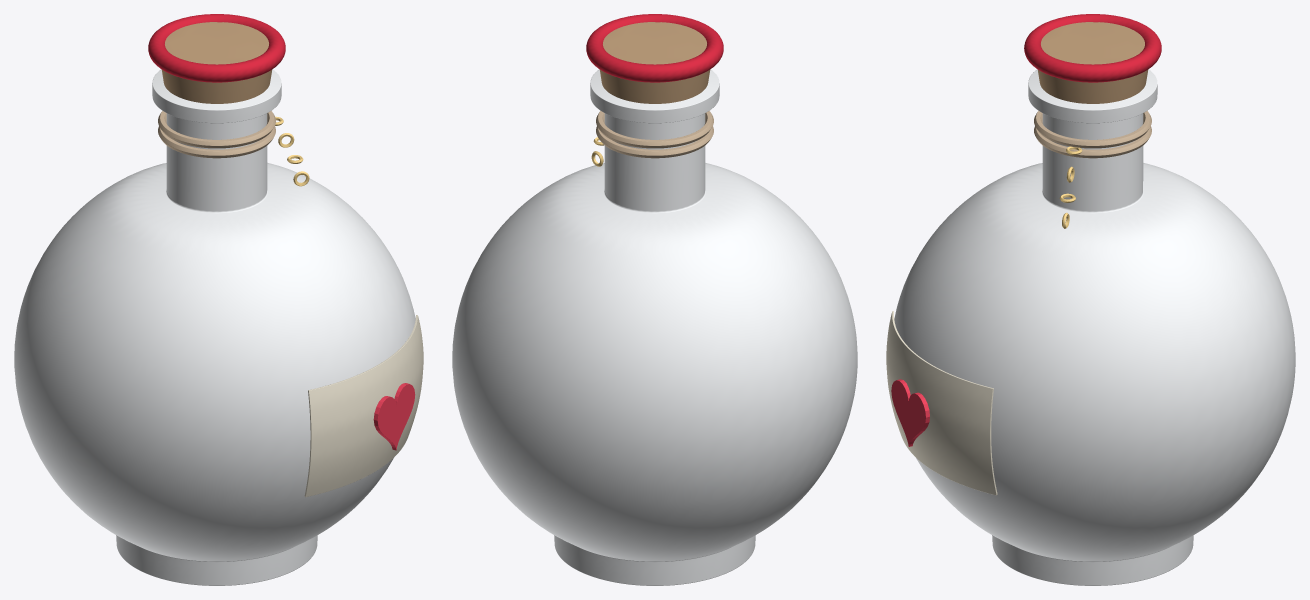
Rendered from healthpotion.glb.
The picture shows the model from 3 angles, left to right: view 1: azimuth 30°, elevation 25°; view 2: azimuth 150°, elevation 25°; view 3: azimuth 270°, elevation 25°; orthographic projection.
Parts seen in each view (by area): view 1: HealthPotion_Glass, HealthPotion_Label, HealthPotion_Cork, HealthPotion_WaxSeal, HealthPotion_LabelIcon, HealthPotion_String.001, HealthPotion_String; view 2: HealthPotion_Glass, HealthPotion_Cork, HealthPotion_WaxSeal, HealthPotion_String.001, HealthPotion_String; view 3: HealthPotion_Glass, HealthPotion_Label, HealthPotion_Cork, HealthPotion_WaxSeal, HealthPotion_LabelIcon, HealthPotion_String.001, HealthPotion_String.
Boxes of the visible parts, box(x1,y1,x2,y2) form: HealthPotion_Glass: box(14, 69, 415, 585); HealthPotion_Label: box(304, 315, 423, 497); HealthPotion_Cork: box(162, 22, 272, 103); HealthPotion_WaxSeal: box(148, 14, 285, 82); HealthPotion_LabelIcon: box(373, 383, 415, 450); HealthPotion_String.001: box(158, 111, 275, 148); HealthPotion_String: box(158, 126, 275, 158); HealthPotion_Glass: box(452, 69, 857, 585); HealthPotion_Cork: box(600, 22, 710, 103); HealthPotion_WaxSeal: box(586, 14, 723, 82); HealthPotion_String.001: box(596, 111, 713, 148); HealthPotion_String: box(596, 126, 713, 158); HealthPotion_Glass: box(894, 69, 1295, 585); HealthPotion_Label: box(886, 311, 997, 495); HealthPotion_Cork: box(1038, 22, 1148, 103); HealthPotion_WaxSeal: box(1024, 14, 1161, 82); HealthPotion_LabelIcon: box(891, 379, 929, 446); HealthPotion_String.001: box(1034, 111, 1151, 148); HealthPotion_String: box(1034, 126, 1151, 158).
Size of the model in its own units: 1.69 by 2.32 by 1.71.
